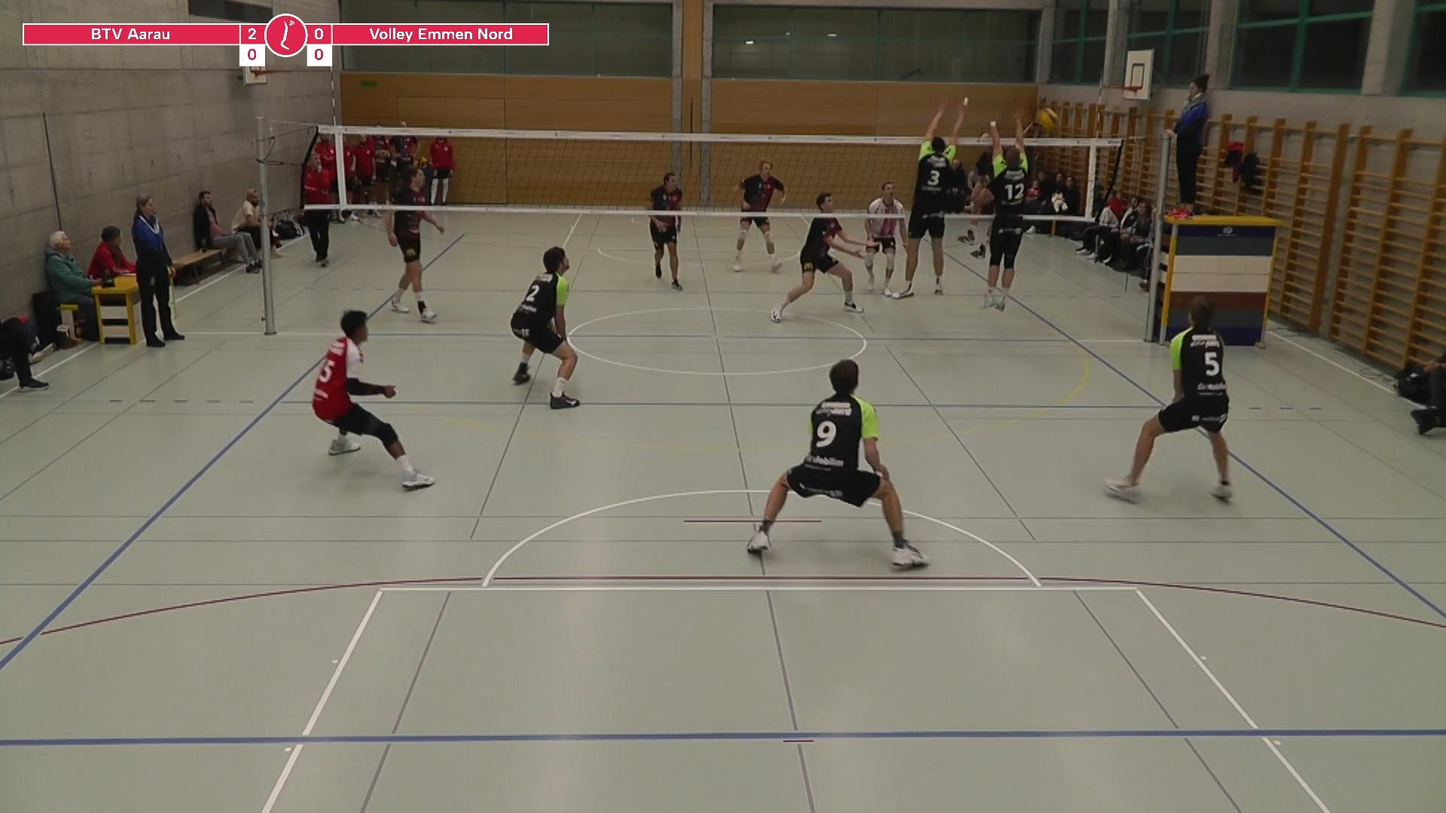Block: (898, 92, 981, 304), (964, 106, 1044, 317)
Player: (747, 360, 928, 567), (1106, 297, 1231, 501), (313, 310, 433, 489), (771, 193, 868, 322), (510, 247, 579, 409), (385, 208, 444, 323), (864, 181, 904, 296), (649, 215, 682, 291), (739, 160, 786, 212)
ball: (1033, 99, 1059, 130)
